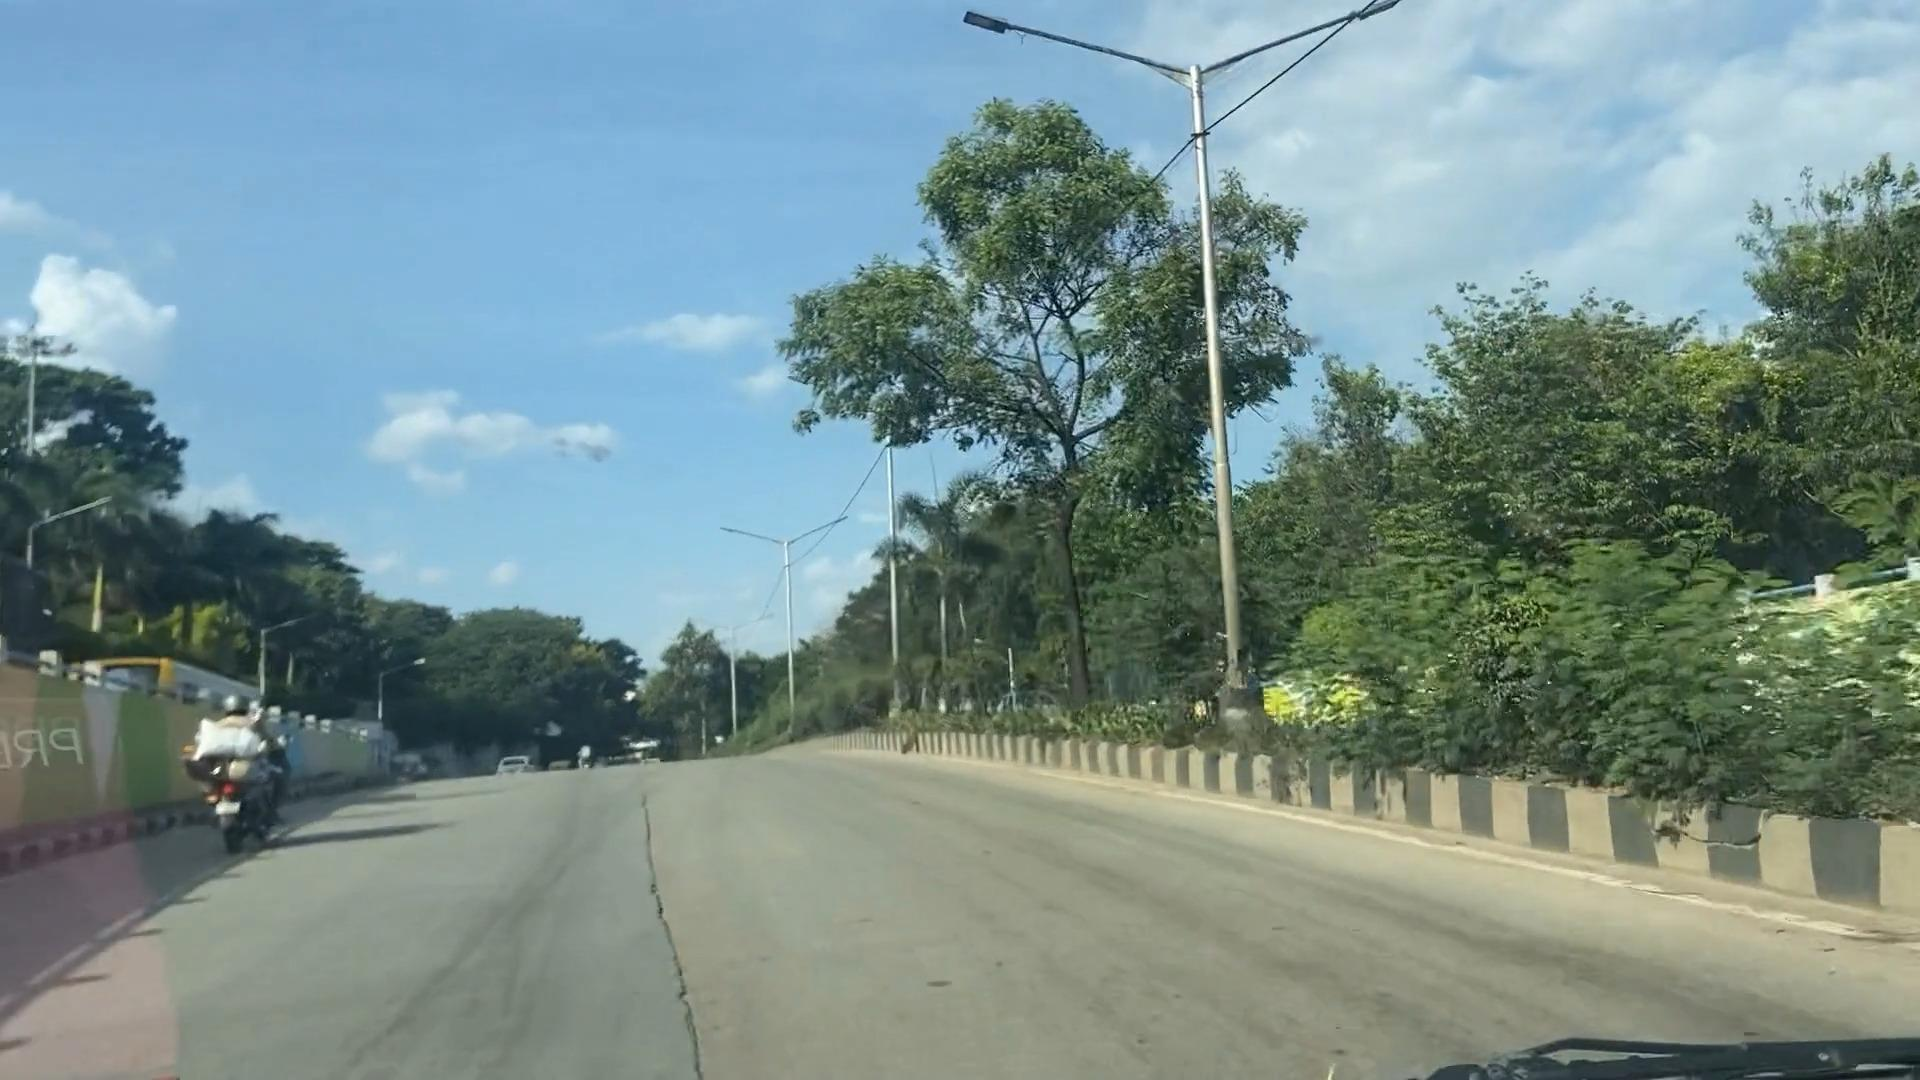LMV: (194, 698, 278, 843)
RoadDamages: (638, 910, 812, 1071), (597, 771, 700, 897)
